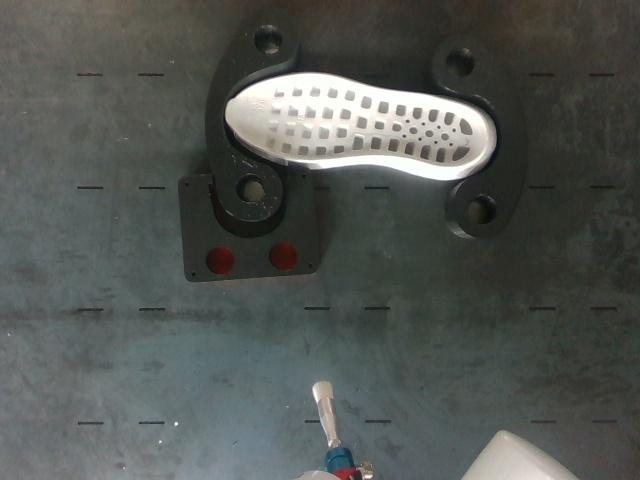shoes: (226, 74, 487, 167)
